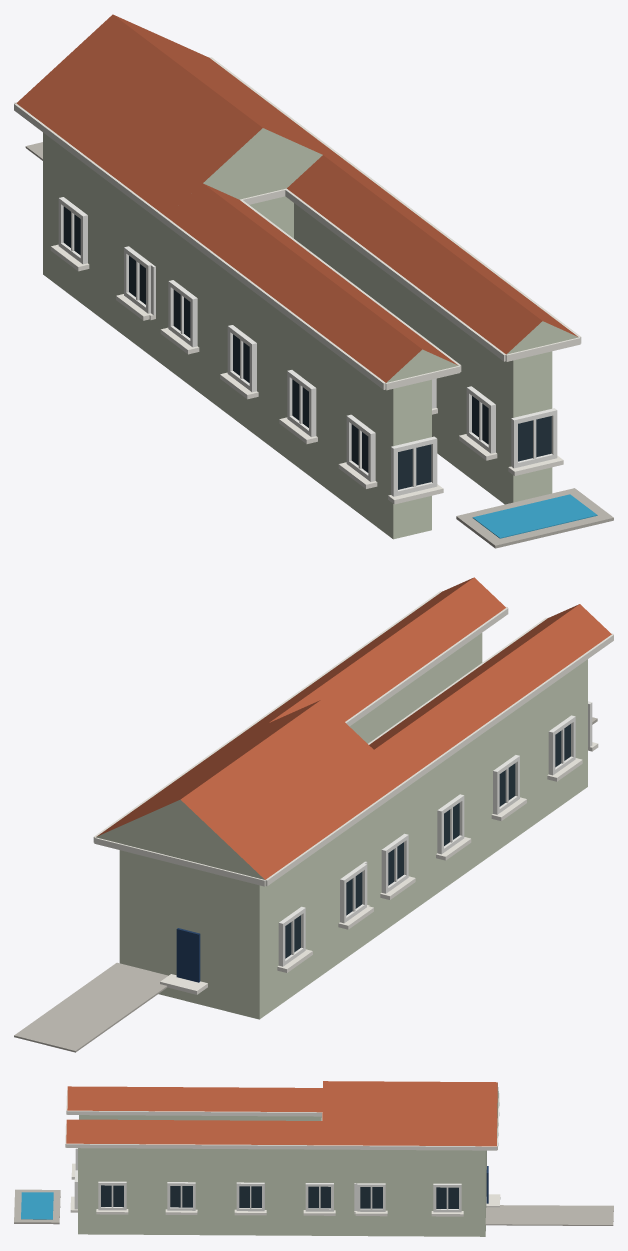
The picture shows the model from 3 angles, top to bottom: view 1: azimuth 30°, elevation 25°; view 2: azimuth 150°, elevation 25°; view 3: azimuth 270°, elevation 25°; orthographic projection. The views are drawn at different scales.
Parts seen in each view (by area): view 1: b3807; view 2: b3807; view 3: b3807.
Part boxes in pixels (bbox=[...]): b3807: bbox=[14, 14, 613, 548]; b3807: bbox=[14, 577, 613, 1052]; b3807: bbox=[14, 1081, 613, 1236].
Size of the model in its own units: 2951 by 3214 by 13151.
